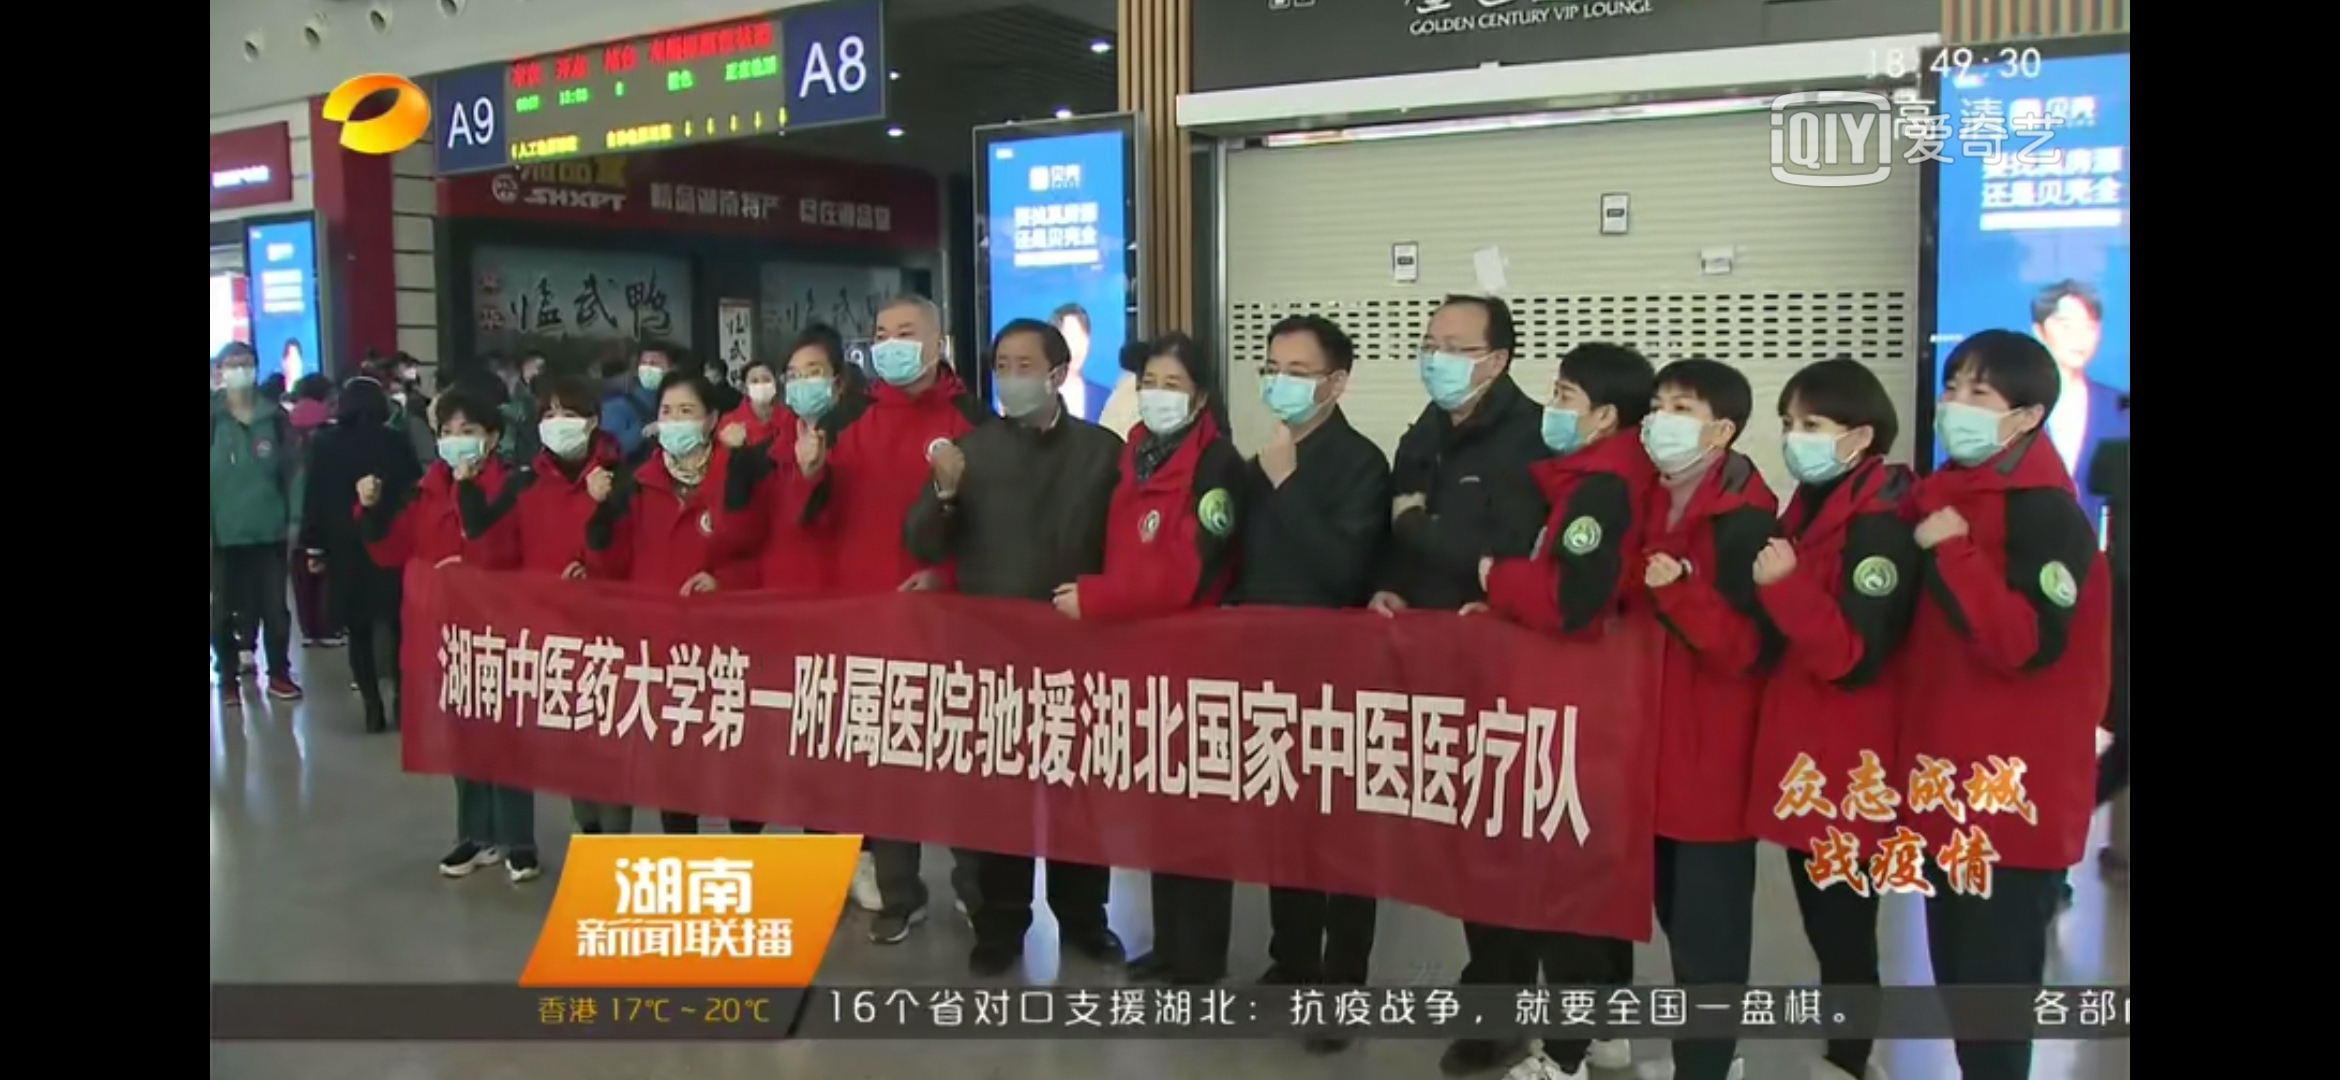correctlyWear: (1933, 367, 2045, 477), (1639, 383, 1751, 480), (1421, 318, 1516, 418), (1773, 412, 1880, 491), (989, 346, 1072, 433), (1263, 351, 1348, 430), (1542, 374, 1619, 456), (1136, 370, 1212, 442), (866, 324, 948, 383), (782, 362, 845, 427), (434, 424, 503, 476), (540, 406, 601, 461), (655, 400, 713, 453), (222, 354, 260, 395), (639, 354, 669, 392), (748, 368, 776, 409), (395, 357, 418, 380)
